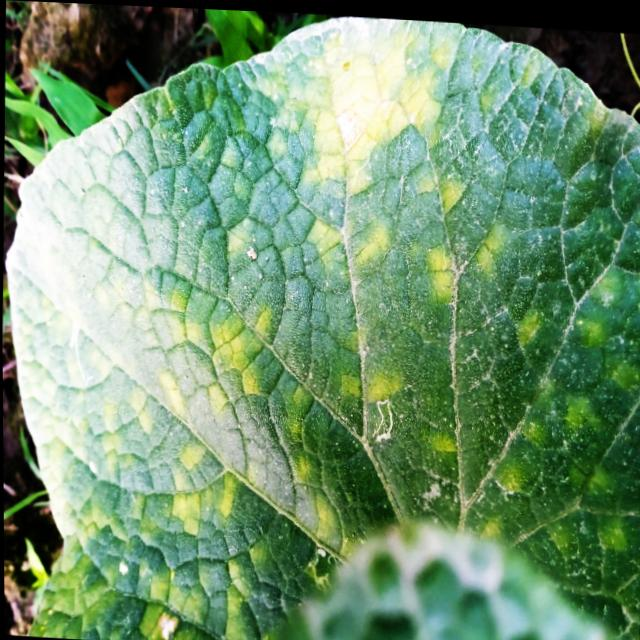Downy-Mildew: (3, 14, 640, 640)
